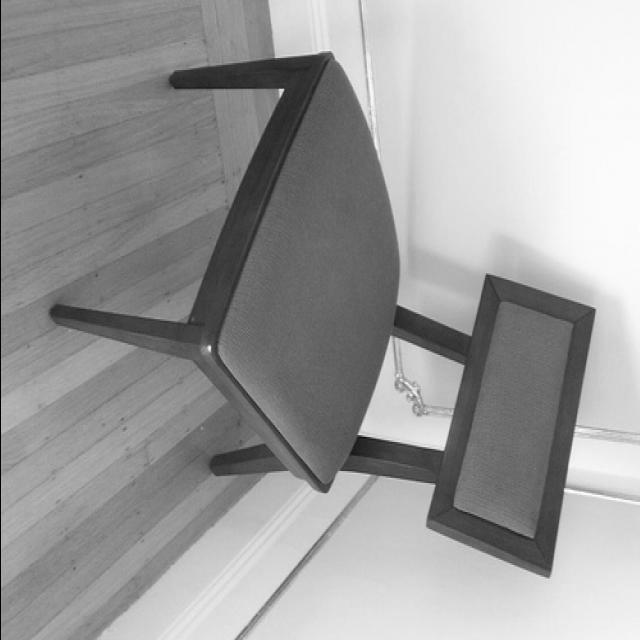chair: (48, 48, 596, 581)
